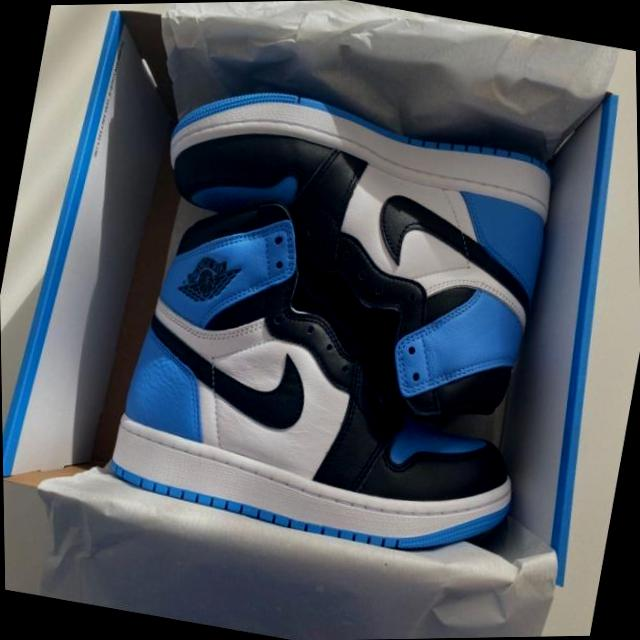nike_original_jordan: (81, 169, 564, 575), (116, 66, 570, 436)
